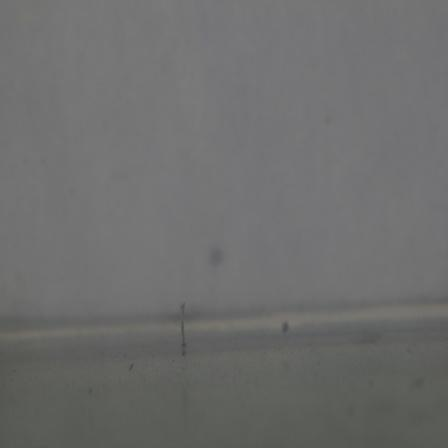Jentik-Nyamuk: (171, 298, 196, 357)
